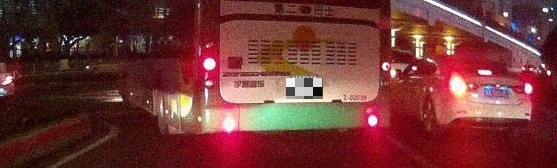L_light: (449, 72, 468, 101)
R_light: (523, 83, 533, 102)
T_light: (476, 68, 493, 76)
night-left: (431, 55, 534, 138)
plate_1: (286, 78, 323, 99)
